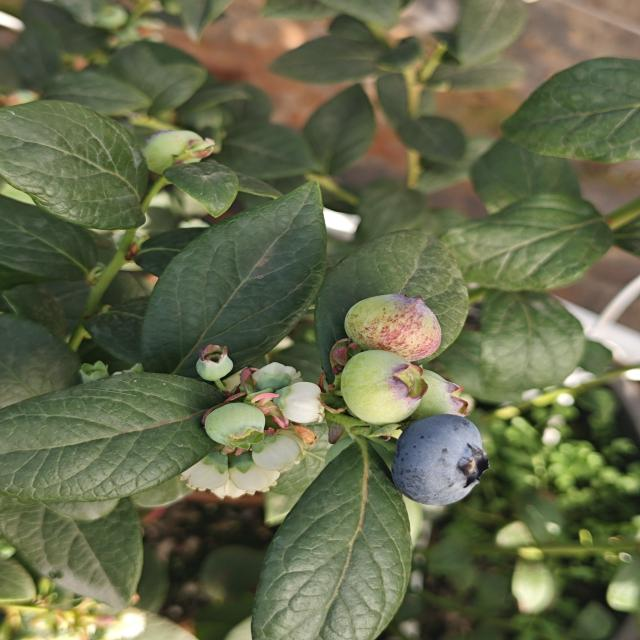ripe: (388, 412, 492, 508)
